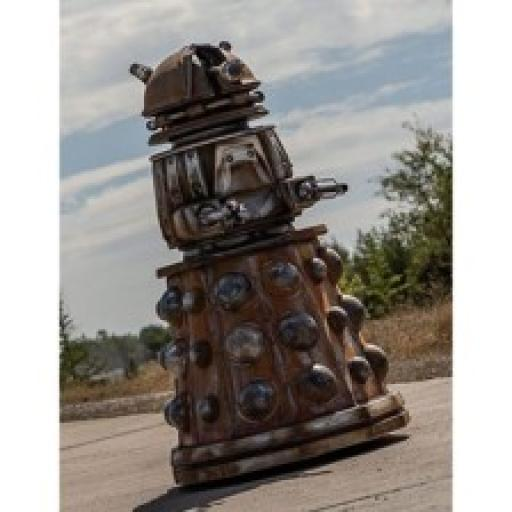dalek: (120, 34, 409, 494)
